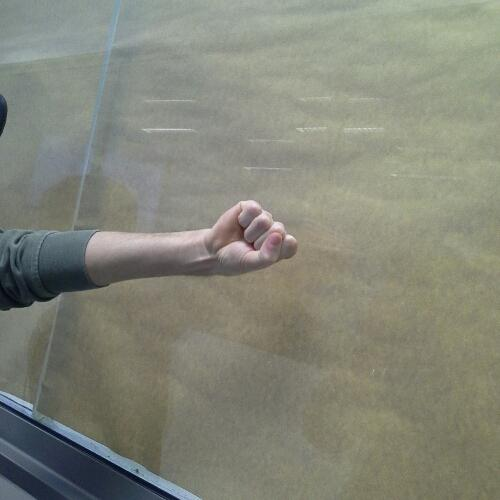rock: (198, 197, 304, 286)
